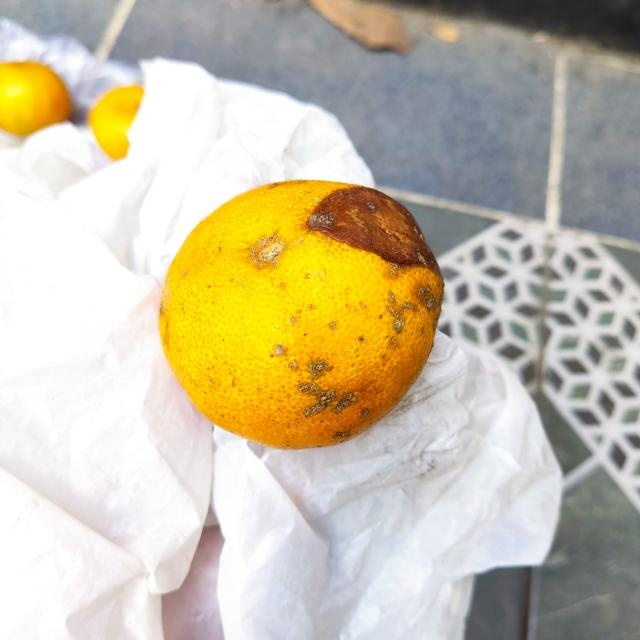agrume: (158, 178, 444, 451)
